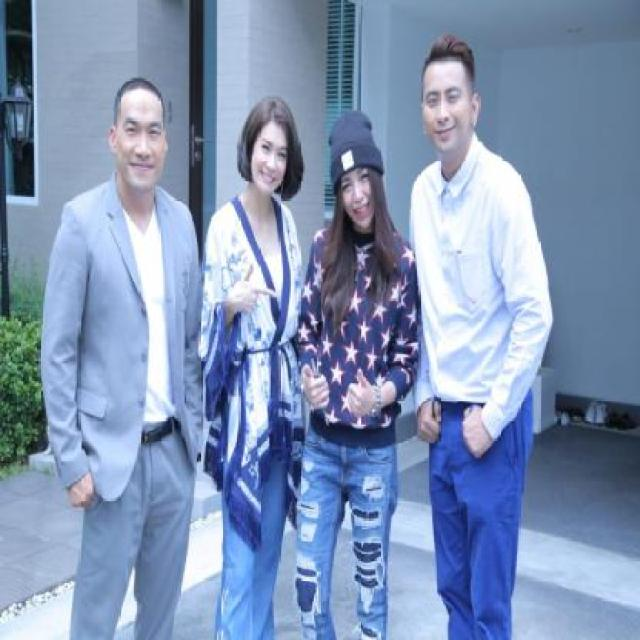sem_oculos: (417, 77, 475, 114), (320, 162, 380, 190), (113, 109, 162, 142), (250, 132, 292, 164)
